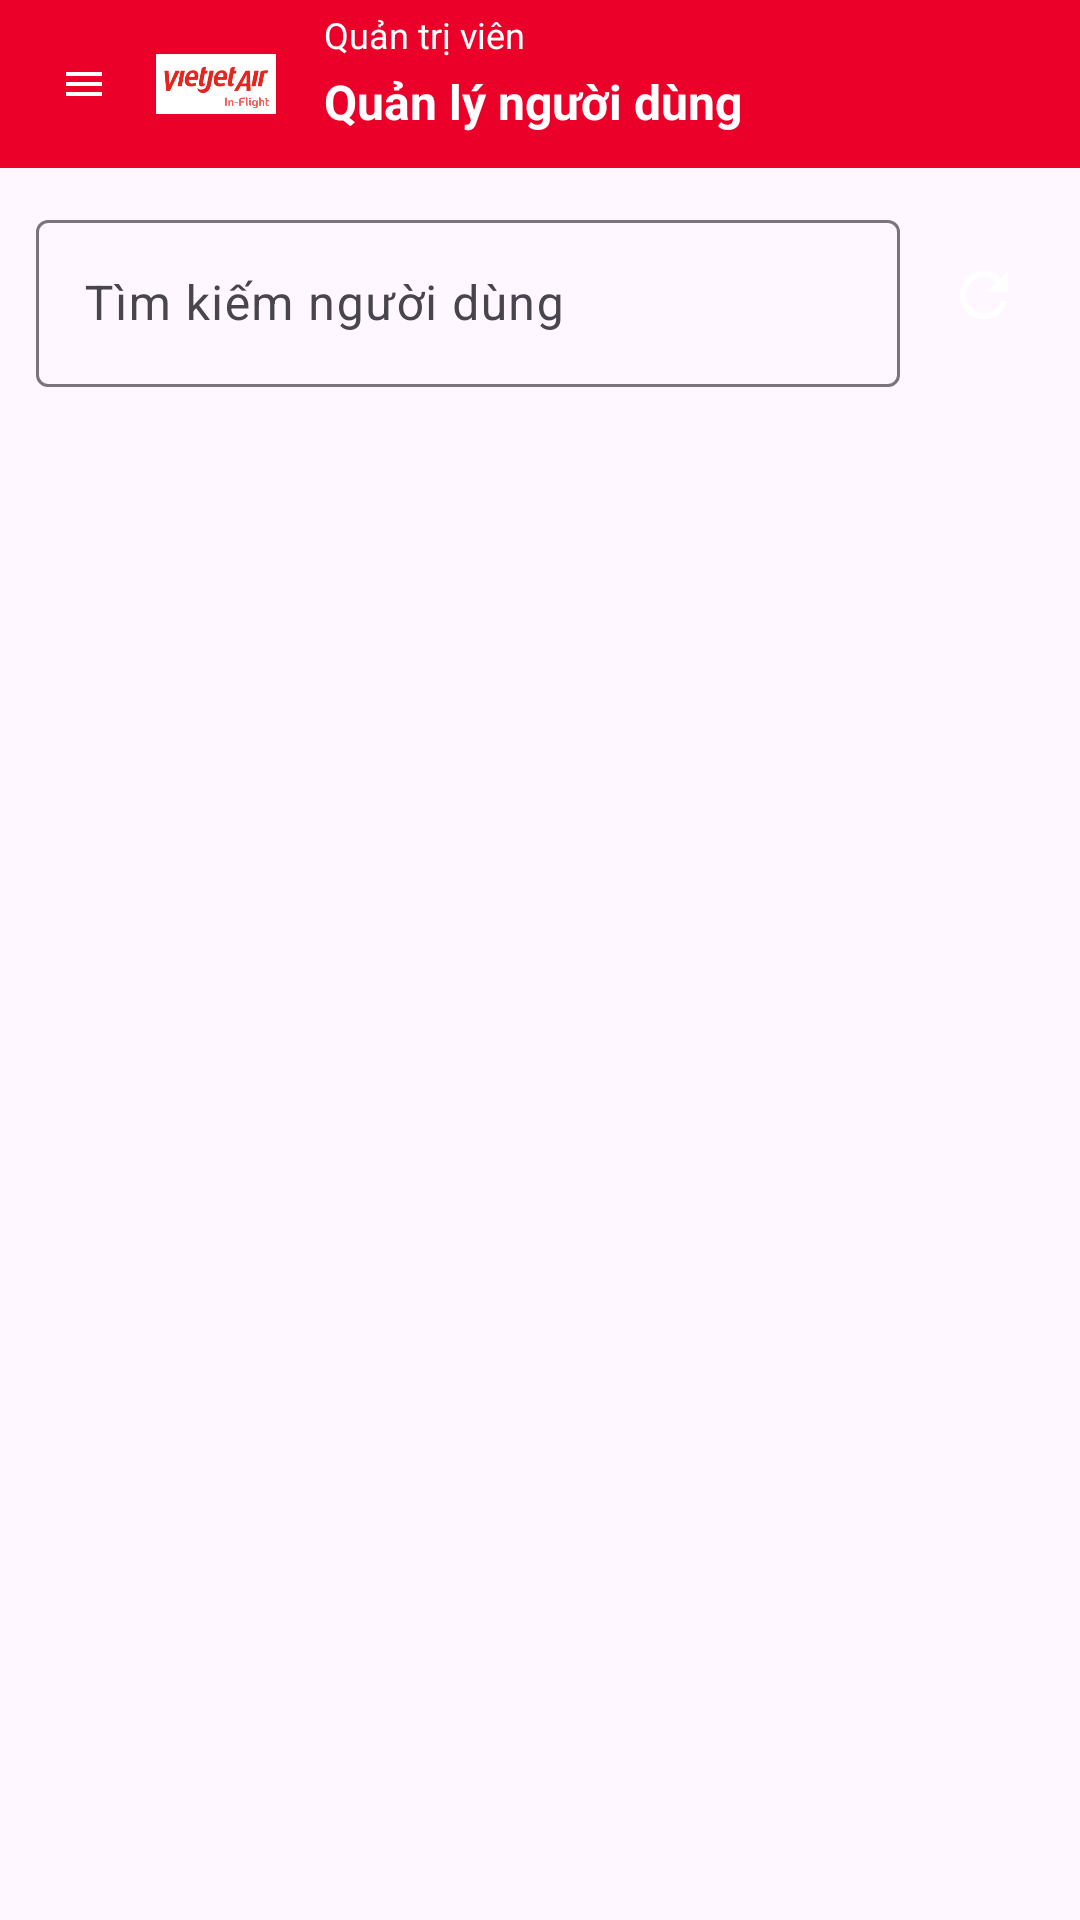

Where to tap for icons on this 1080x1920 app screen, as (x=x, y=y):
menu: (x=84, y=84)
